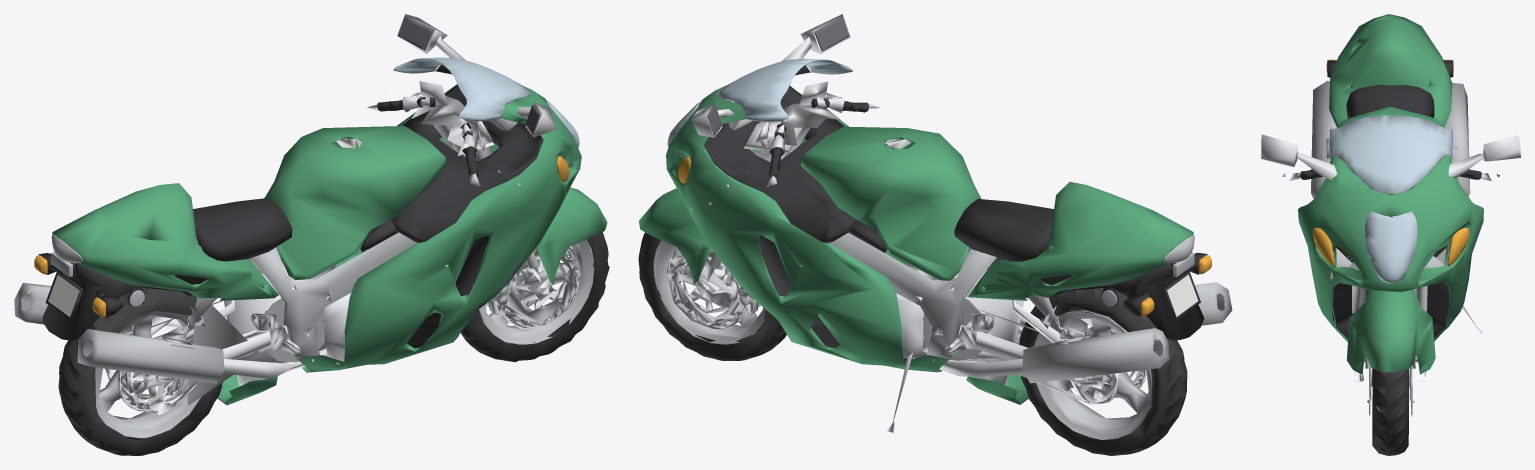
File: archmodels55-04.glb
3 renders of one model, left to right at view 1: azimuth 30°, elevation 25°; view 2: azimuth 150°, elevation 25°; view 3: azimuth 270°, elevation 25°, orthographic. The views are drawn at different scales.
Visible parts, largest first — view 1: Archmodels55_04_carpaint, Archmodels55_04_silver, Archmodels55_04_black, Archmodels55_04_chrome2, Archmodels55_04_tires, Archmodels55_04_brake_disc, Archmodels55_04_glass, Archmodels55_04_black2, Archmodels55_04_mirrors, Archmodels55_04_brake_disc_rear, Archmodels55_04_register_plate, Archmodels55_04_glass_blinkers; view 2: Archmodels55_04_carpaint, Archmodels55_04_silver, Archmodels55_04_black, Archmodels55_04_chrome2, Archmodels55_04_tires, Archmodels55_04_glass, Archmodels55_04_brake_disc, Archmodels55_04_black2, Archmodels55_04_mirrors, Archmodels55_04_register_plate, Archmodels55_04_glass_blinkers; view 3: Archmodels55_04_carpaint, Archmodels55_04_glass, Archmodels55_04_silver, Archmodels55_04_chrome2, Archmodels55_04_tires, Archmodels55_04_black, Archmodels55_04_black2, Archmodels55_04_glass_blinkers, Archmodels55_04_brake_disc.
Part boxes in pixels (x1=…): Archmodels55_04_carpaint: x1=52, y1=64, x2=607, y2=405; Archmodels55_04_silver: x1=14, y1=124, x2=594, y2=438; Archmodels55_04_black: x1=38, y1=65, x2=543, y2=340; Archmodels55_04_chrome2: x1=105, y1=14, x2=566, y2=415; Archmodels55_04_tires: x1=58, y1=232, x2=609, y2=455; Archmodels55_04_brake_disc: x1=153, y1=88, x2=580, y2=405; Archmodels55_04_glass: x1=393, y1=57, x2=579, y2=147; Archmodels55_04_black2: x1=174, y1=151, x2=558, y2=348; Archmodels55_04_mirrors: x1=397, y1=16, x2=540, y2=135; Archmodels55_04_brake_disc_rear: x1=118, y1=337, x2=184, y2=411; Archmodels55_04_register_plate: x1=48, y1=275, x2=79, y2=316; Archmodels55_04_glass_blinkers: x1=34, y1=156, x2=569, y2=316; Archmodels55_04_carpaint: x1=639, y1=65, x2=1193, y2=404; Archmodels55_04_silver: x1=653, y1=127, x2=1232, y2=439; Archmodels55_04_black: x1=703, y1=66, x2=1207, y2=340; Archmodels55_04_chrome2: x1=680, y1=14, x2=1135, y2=432; Archmodels55_04_tires: x1=638, y1=232, x2=1187, y2=455; Archmodels55_04_glass: x1=667, y1=58, x2=853, y2=146; Archmodels55_04_brake_disc: x1=666, y1=93, x2=1087, y2=362; Archmodels55_04_black2: x1=690, y1=152, x2=1071, y2=361; Archmodels55_04_mirrors: x1=707, y1=17, x2=849, y2=135; Archmodels55_04_register_plate: x1=1167, y1=274, x2=1198, y2=316; Archmodels55_04_glass_blinkers: x1=678, y1=156, x2=1211, y2=316; Archmodels55_04_carpaint: x1=1298, y1=14, x2=1483, y2=374; Archmodels55_04_glass: x1=1329, y1=115, x2=1452, y2=283; Archmodels55_04_silver: x1=1311, y1=80, x2=1470, y2=427; Archmodels55_04_chrome2: x1=1261, y1=134, x2=1520, y2=403; Archmodels55_04_tires: x1=1372, y1=368, x2=1408, y2=455; Archmodels55_04_black: x1=1300, y1=60, x2=1481, y2=206; Archmodels55_04_black2: x1=1319, y1=85, x2=1460, y2=338; Archmodels55_04_glass_blinkers: x1=1313, y1=59, x2=1469, y2=266; Archmodels55_04_brake_disc: x1=1282, y1=173, x2=1499, y2=416.
Bounding box in the file's own units: 2.24 × 1.21 × 0.9624.
